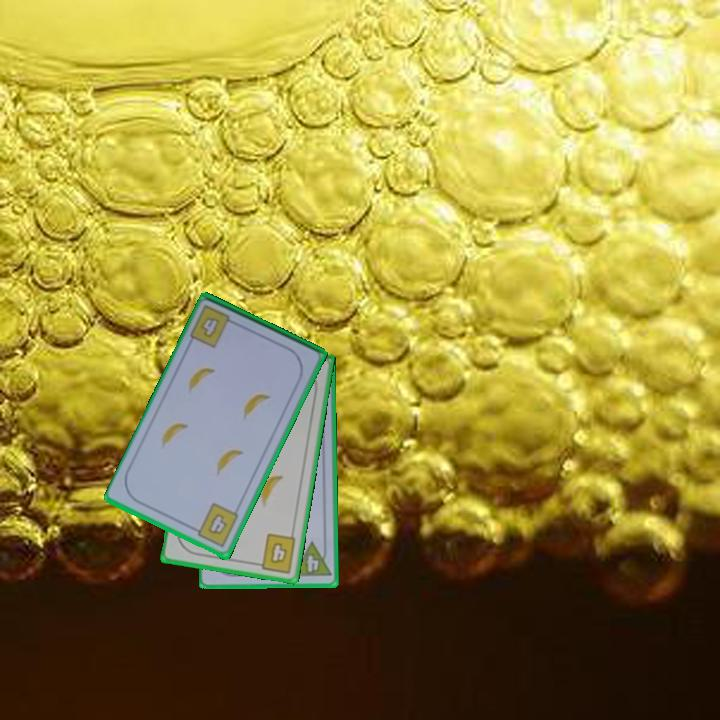4b: (189, 500, 242, 551), (251, 530, 299, 576), (197, 314, 223, 341)
4p: (289, 539, 334, 580)
